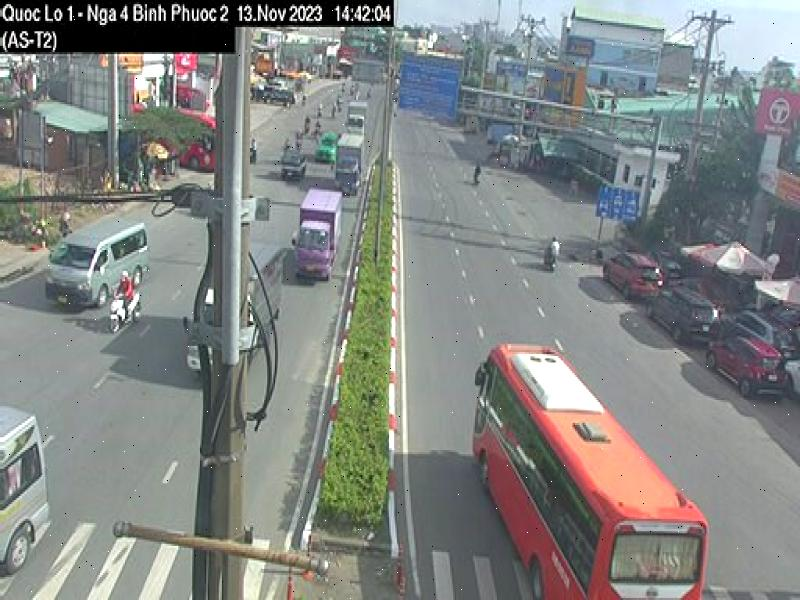bus: (468, 342, 709, 600)
truck: (291, 182, 344, 286)
